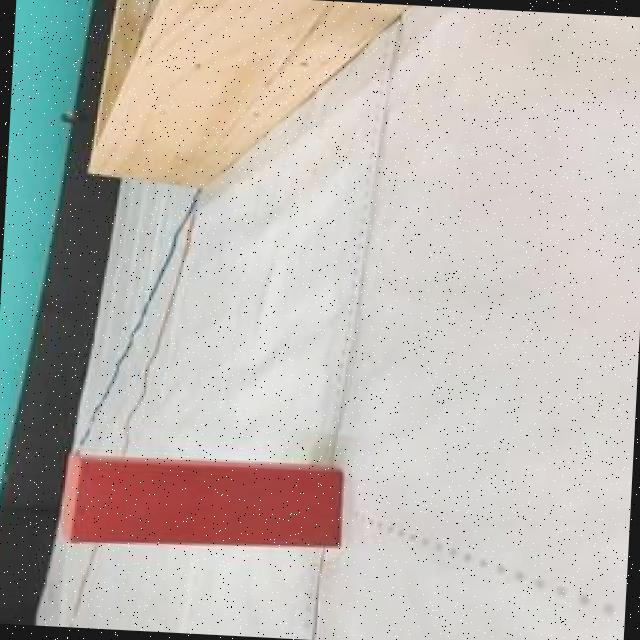redbox: (54, 450, 348, 557)
